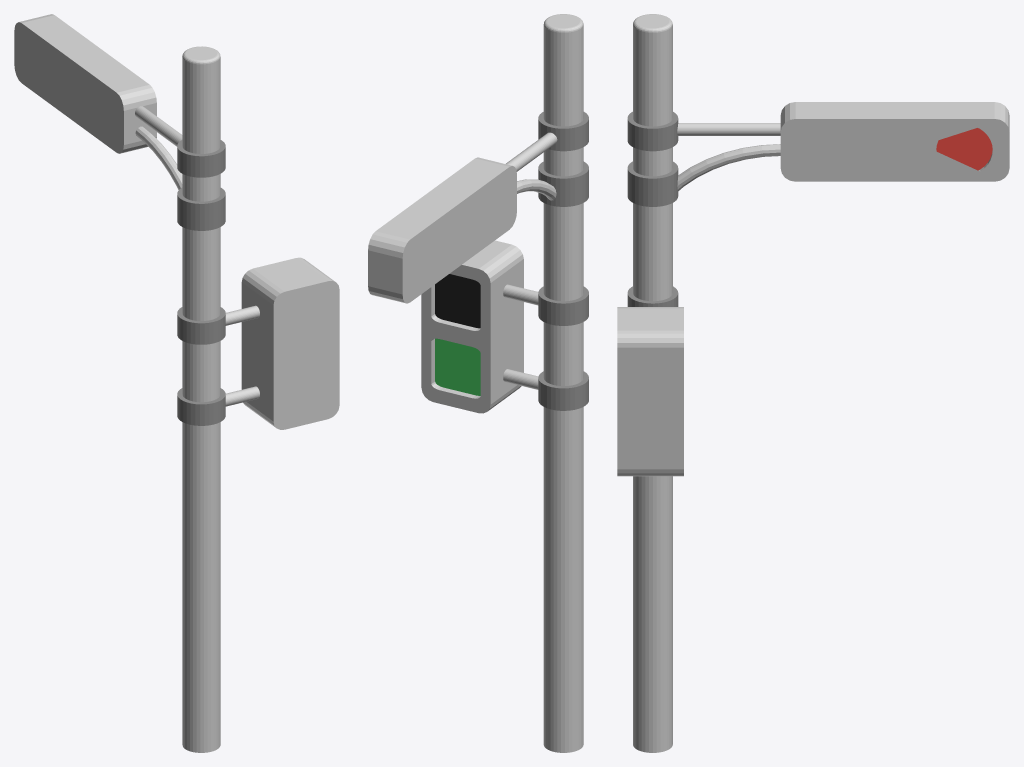
Rendered from traffic_light_red.fbx.
The picture shows the model from 3 angles, left to right: view 1: azimuth 30°, elevation 25°; view 2: azimuth 150°, elevation 25°; view 3: azimuth 270°, elevation 25°; orthographic projection. The views are drawn at different scales.
Parts seen in each view (by area): view 1: telephone_pole, traffic_light_walk, traffic_light_head, band2, band1, band3, band4, line2, line; view 2: telephone_pole, traffic_light_walk, traffic_light_head, band2, band3, band4, band1, line, line2, line3, line4; view 3: telephone_pole, traffic_light_head, traffic_light_walk, band2, line2, band1, line.
Boxes of the visible parts, x1,y1,x2,y2 form: telephone_pole: [182, 46, 220, 752]; traffic_light_walk: [241, 257, 339, 429]; traffic_light_head: [14, 14, 156, 153]; band2: [177, 187, 225, 230]; band1: [177, 140, 225, 177]; band3: [177, 307, 225, 344]; band4: [177, 388, 225, 425]; line2: [135, 126, 182, 189]; line: [135, 106, 182, 146]; telephone_pole: [543, 14, 583, 752]; traffic_light_walk: [421, 240, 523, 413]; traffic_light_head: [368, 157, 516, 303]; band2: [538, 161, 588, 206]; band3: [538, 286, 588, 325]; band4: [538, 371, 588, 410]; band1: [538, 112, 588, 151]; line: [506, 132, 557, 171]; line2: [517, 179, 556, 200]; line3: [503, 284, 538, 305]; line4: [503, 369, 538, 389]; telephone_pole: [633, 14, 672, 752]; traffic_light_head: [780, 102, 1009, 181]; traffic_light_walk: [617, 307, 683, 476]; band2: [627, 161, 678, 206]; line2: [677, 144, 780, 191]; band1: [627, 111, 678, 151]; line: [677, 123, 780, 135].
Size of the model in its own units: 258 by 1200 by 590.
